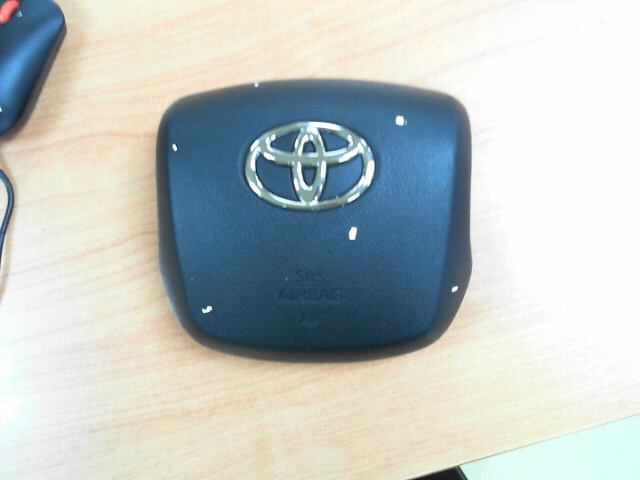Airbag: (394, 115, 406, 127), (348, 227, 358, 241), (201, 305, 213, 314), (452, 285, 458, 293), (254, 81, 260, 88), (172, 144, 177, 152)
